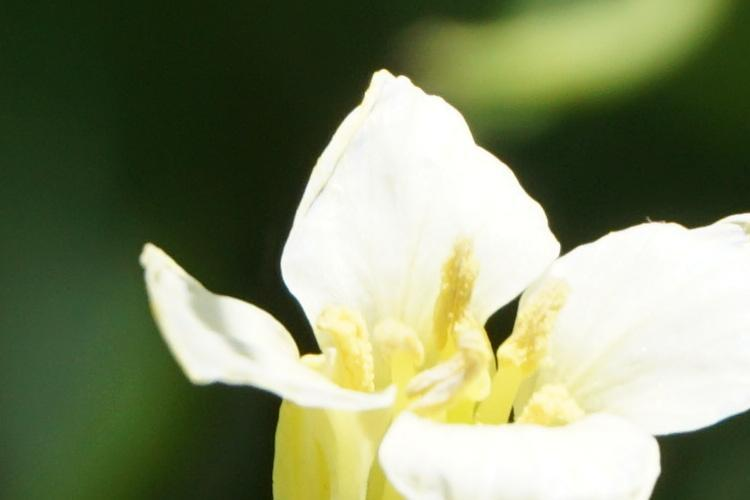white: (182, 85, 748, 500)
